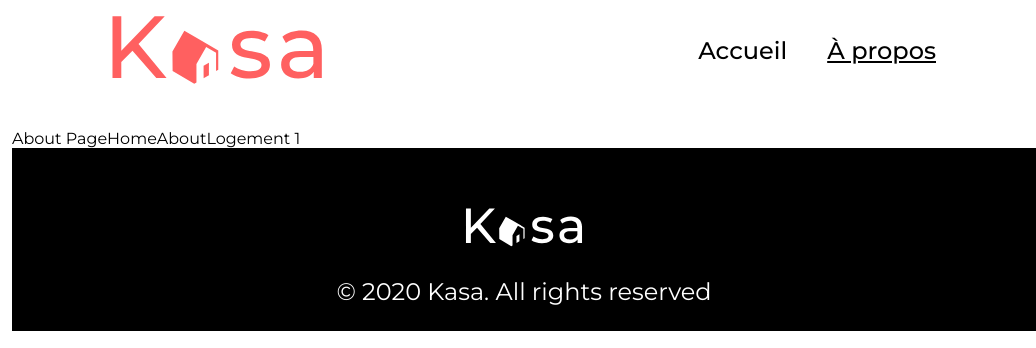
Scenario: Given the AppRouter › it should navigate to the logement page
The image size is (1036, 348).
Click the link "Logement 1" at {"x": 253, "y": 138}, box [206,129,300,148]
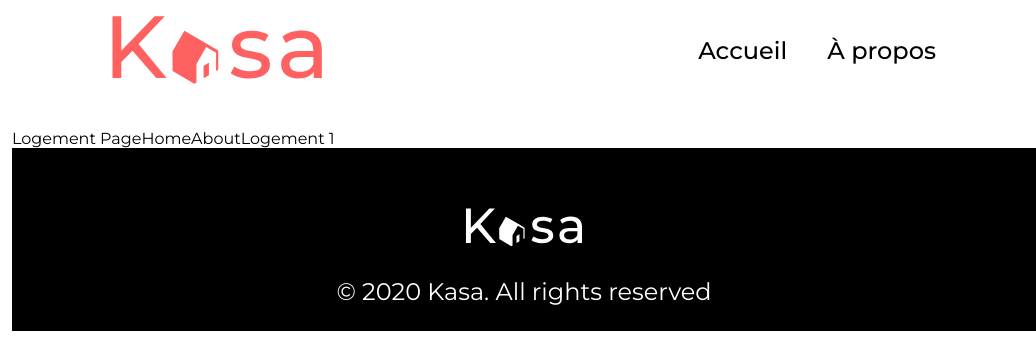
Check: the text "Logement Page Home About Logement 1" is shown, box [12,129,335,148]
